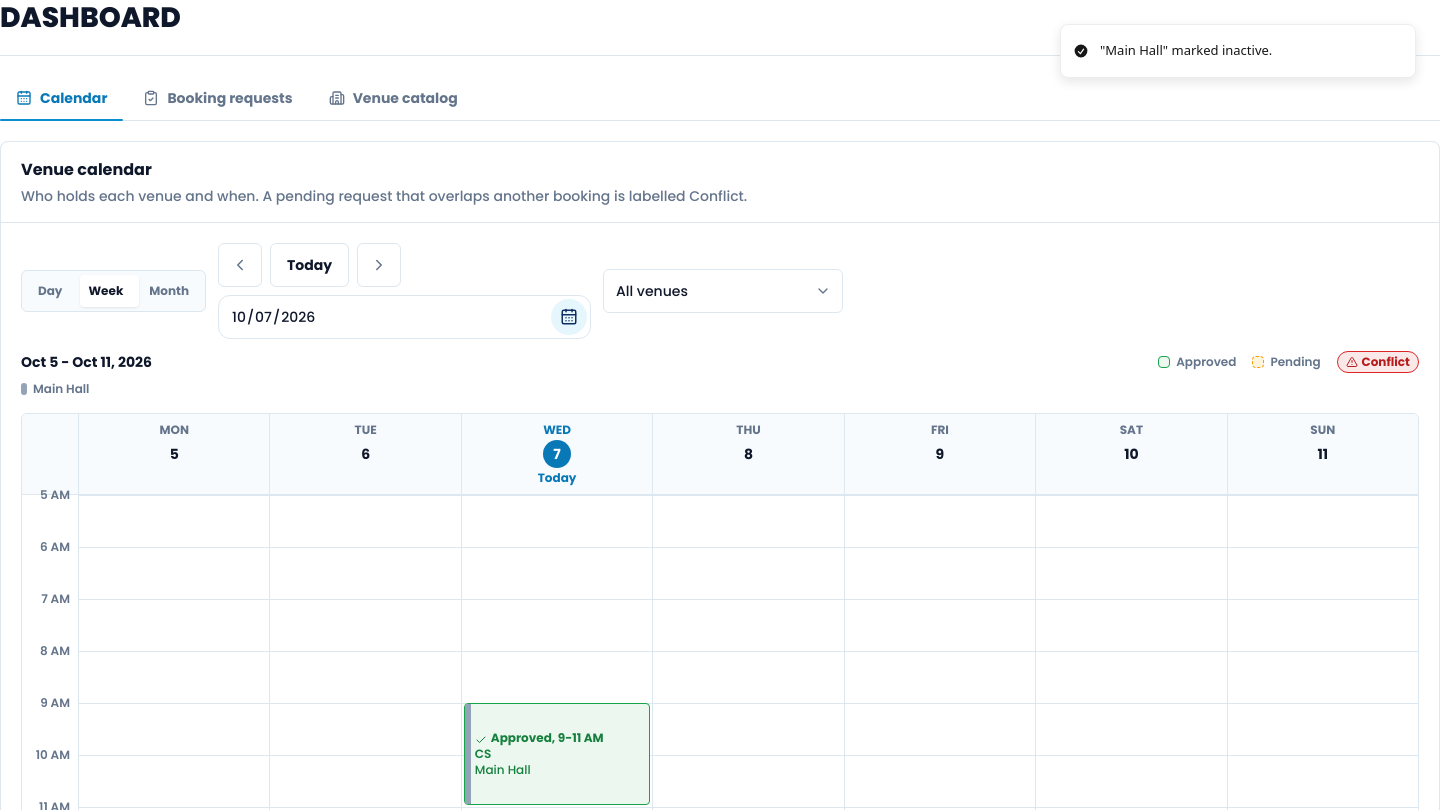
Scenario: SaoVenuesPage › calendar › names an organization by its acronym when it has one
Click the button with aria-label "Approved booking, CS".
click(557, 754)  # box [464,703,650,805]
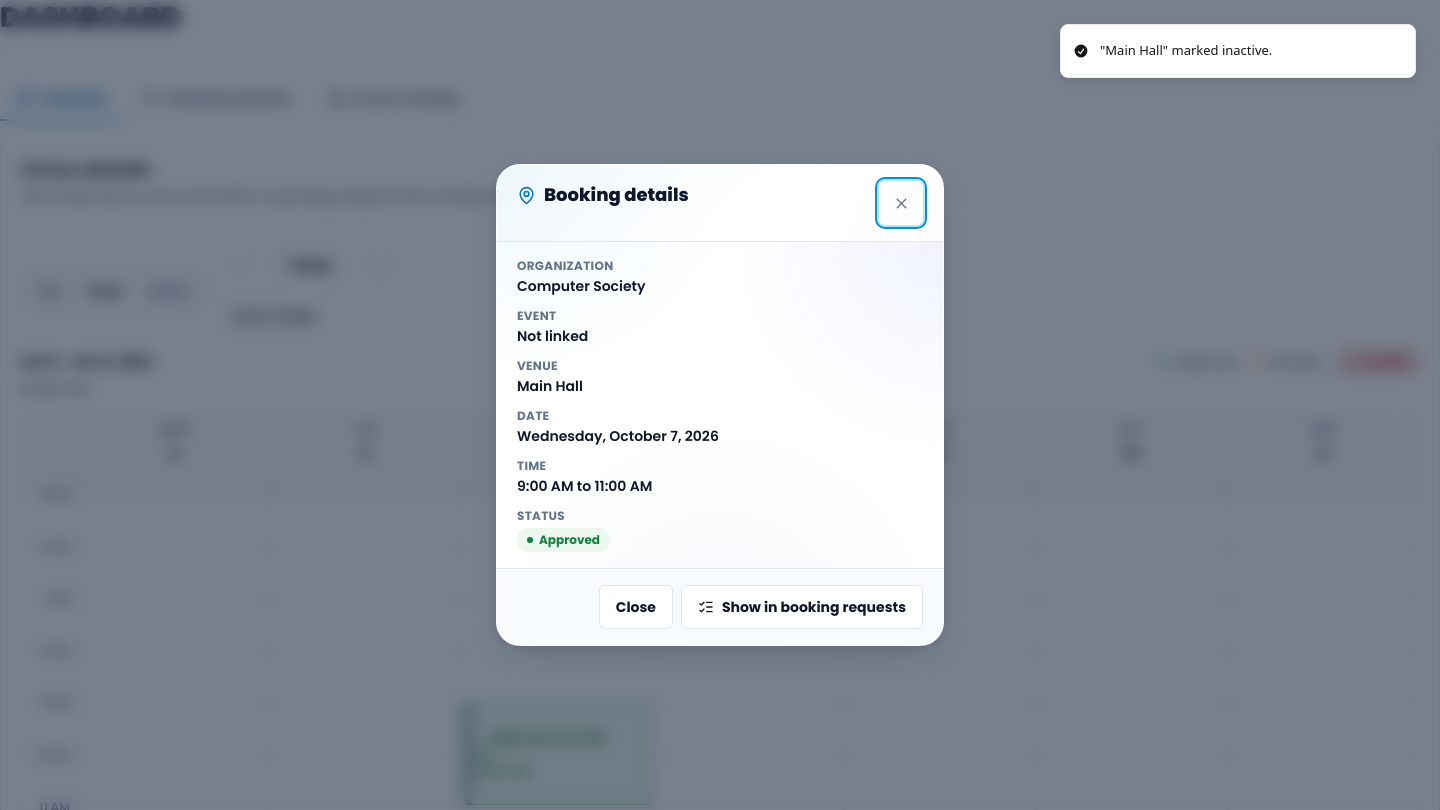
Check: the text "Computer Society" is shown, box [517,276,646,296]
